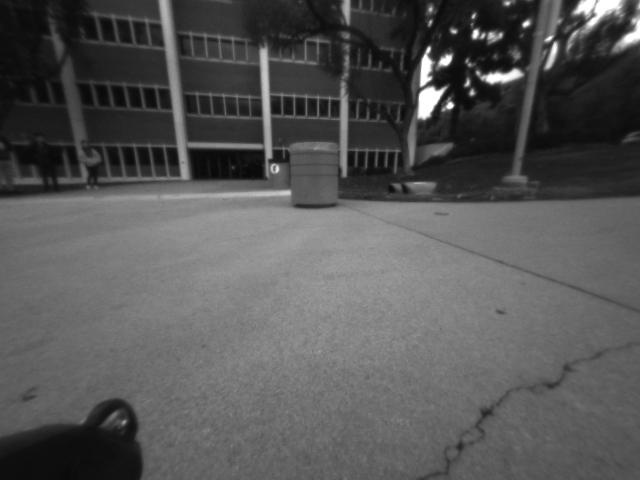trashcan: (288, 136, 342, 214), (264, 153, 291, 196)
